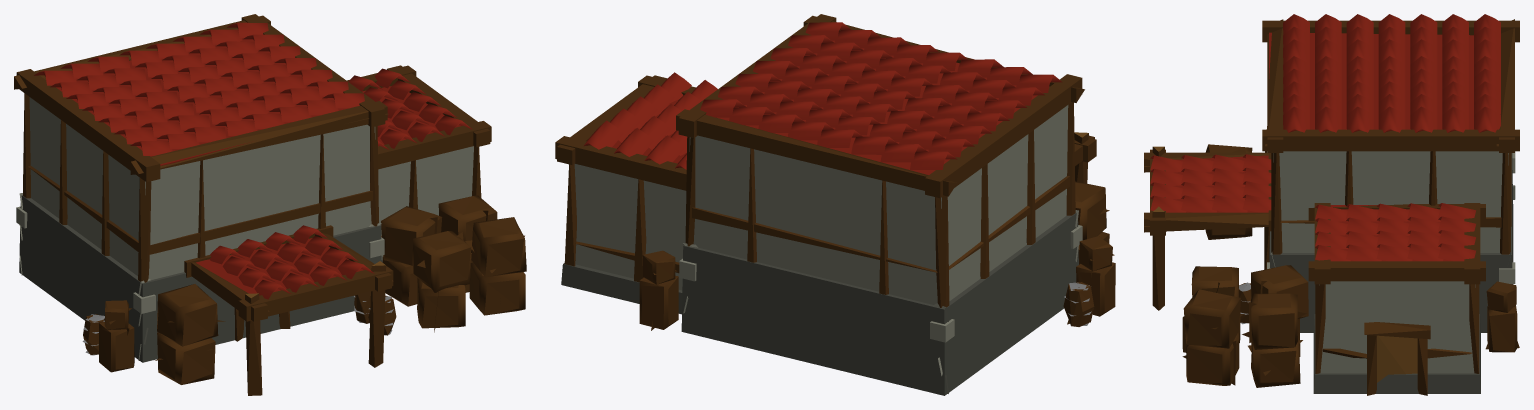
The model's file is Storage_SecondAge_Level3.fbx.
3 renders of one model, left to right at view 1: azimuth 30°, elevation 25°; view 2: azimuth 150°, elevation 25°; view 3: azimuth 270°, elevation 25°, orthographic. The views are drawn at different scales.
Parts seen in each view (by area): view 1: High_Storage_SecondAge_Level3, Low_Storage_SecondAge_Level3; view 2: High_Storage_SecondAge_Level3; view 3: High_Storage_SecondAge_Level3, Low_Storage_SecondAge_Level3.
Boxes of the visible parts, x1=… form: High_Storage_SecondAge_Level3: x1=14, y1=14, x2=526, y2=395; Low_Storage_SecondAge_Level3: x1=90, y1=113, x2=524, y2=360; High_Storage_SecondAge_Level3: x1=555, y1=14, x2=1115, y2=395; High_Storage_SecondAge_Level3: x1=1144, y1=14, x2=1519, y2=395; Low_Storage_SecondAge_Level3: x1=1144, y1=126, x2=1519, y2=385.
Bounding box in the file's own units: 181 × 91.24 × 143.
